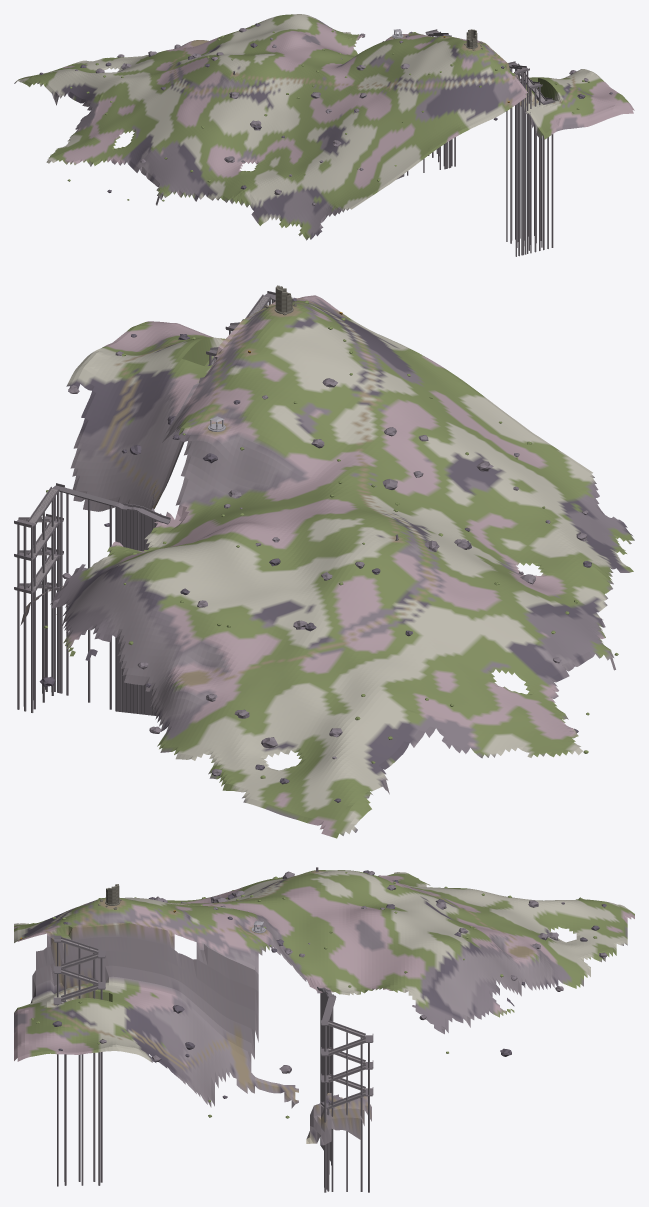
The model's file is coast_isl_saltglass.glb.
The picture shows the model from 3 angles, top to bottom: view 1: azimuth 30°, elevation 25°; view 2: azimuth 150°, elevation 25°; view 3: azimuth 270°, elevation 25°; orthographic projection. The views are drawn at different scales.
Visible parts, largest first — view 1: geometry_0; view 2: geometry_0; view 3: geometry_0.
Boxes of the visible parts, x1,y1,x2,y2 form: geometry_0: (14, 14, 634, 256); geometry_0: (14, 285, 634, 838); geometry_0: (14, 867, 634, 1192).
Size of the model in its own units: 340 by 161 by 340.
